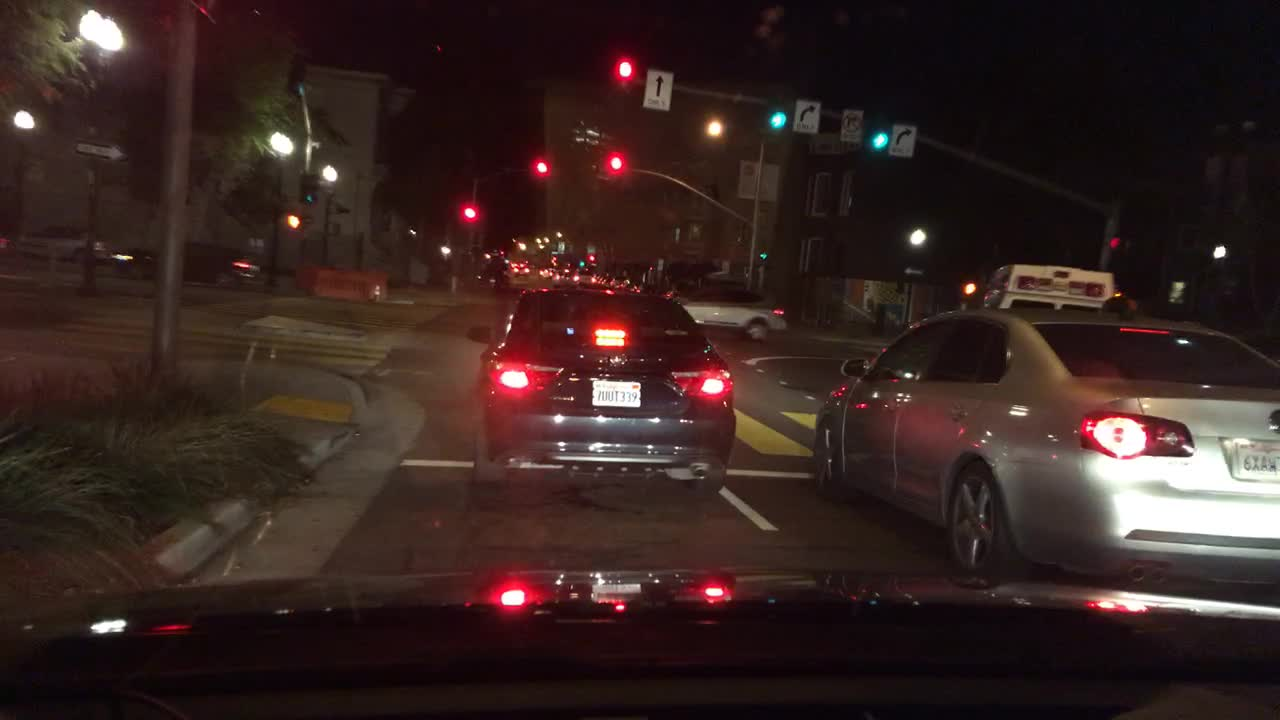car: (812, 305, 1277, 608), (468, 289, 736, 498), (111, 236, 260, 285), (664, 284, 787, 342), (984, 264, 1114, 317), (16, 227, 110, 264), (476, 270, 511, 290), (571, 267, 596, 287), (0, 230, 16, 259), (483, 255, 509, 270), (551, 252, 584, 263), (537, 265, 554, 281), (553, 265, 570, 281), (614, 274, 629, 290), (602, 274, 615, 290), (596, 270, 608, 287), (513, 265, 531, 276), (628, 279, 641, 293), (510, 259, 530, 268)
traffic light: (287, 56, 307, 99), (613, 55, 635, 82), (604, 153, 629, 176), (301, 174, 318, 206), (1105, 234, 1133, 252), (528, 157, 552, 176), (766, 110, 788, 130), (457, 202, 479, 221), (870, 130, 889, 151), (285, 212, 303, 231), (958, 280, 978, 296), (756, 249, 769, 263), (586, 252, 598, 264)
traffic sign: (736, 157, 779, 203), (641, 67, 675, 111), (73, 140, 128, 162), (791, 97, 821, 133), (890, 120, 916, 157), (179, 1, 217, 25), (840, 107, 864, 142), (902, 266, 928, 278)
